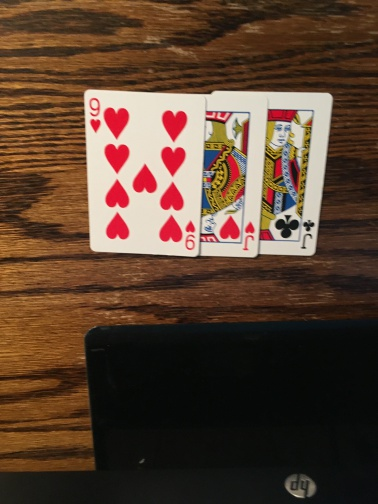jack: (260, 91, 334, 257), (198, 93, 264, 259)
nine: (85, 88, 203, 257)
